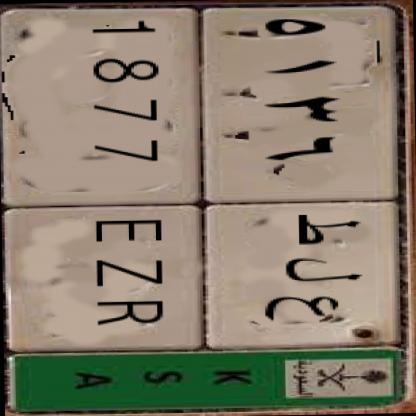english: (11, 7, 216, 354)
